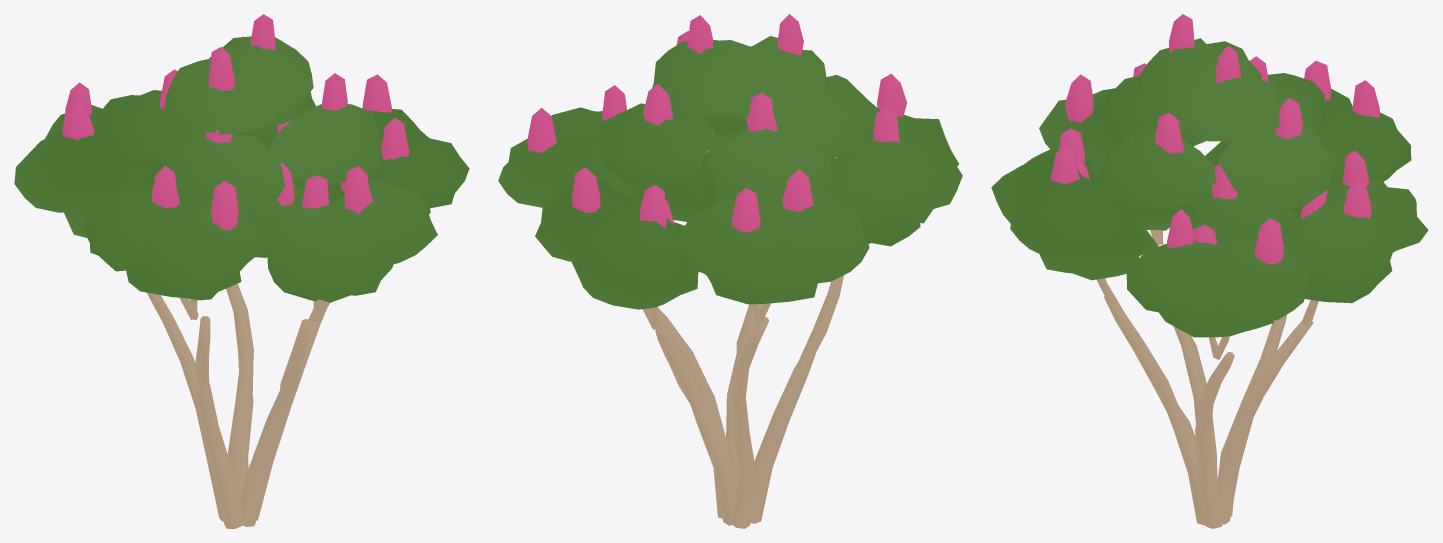
File: Blender_CrapeMyrtle_1.glb
3 views of the same model, side by side, from view 1: azimuth 30°, elevation 25°; view 2: azimuth 150°, elevation 25°; view 3: azimuth 270°, elevation 25° (orthographic). The views are drawn at different scales.
Visible parts, largest first — view 1: Blender_CrapeMyrtle_1; view 2: Blender_CrapeMyrtle_1; view 3: Blender_CrapeMyrtle_1.
Part boxes in pixels (left/top/right/bottom): Blender_CrapeMyrtle_1: left=14, top=14, right=469, bottom=528; Blender_CrapeMyrtle_1: left=498, top=14, right=962, bottom=528; Blender_CrapeMyrtle_1: left=991, top=14, right=1428, bottom=528.
Bounding box in the file's own units: 5.37 × 6.54 × 5.29.
